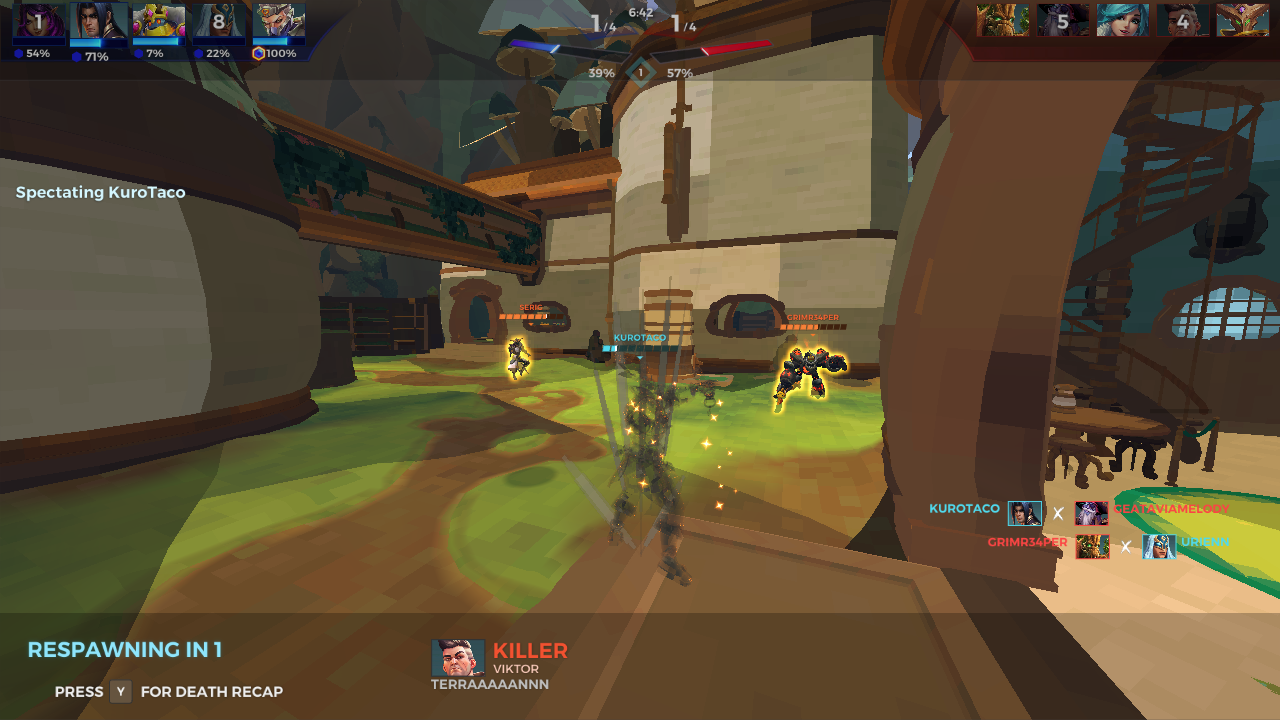model: (772, 344, 846, 407), (506, 332, 531, 382)
